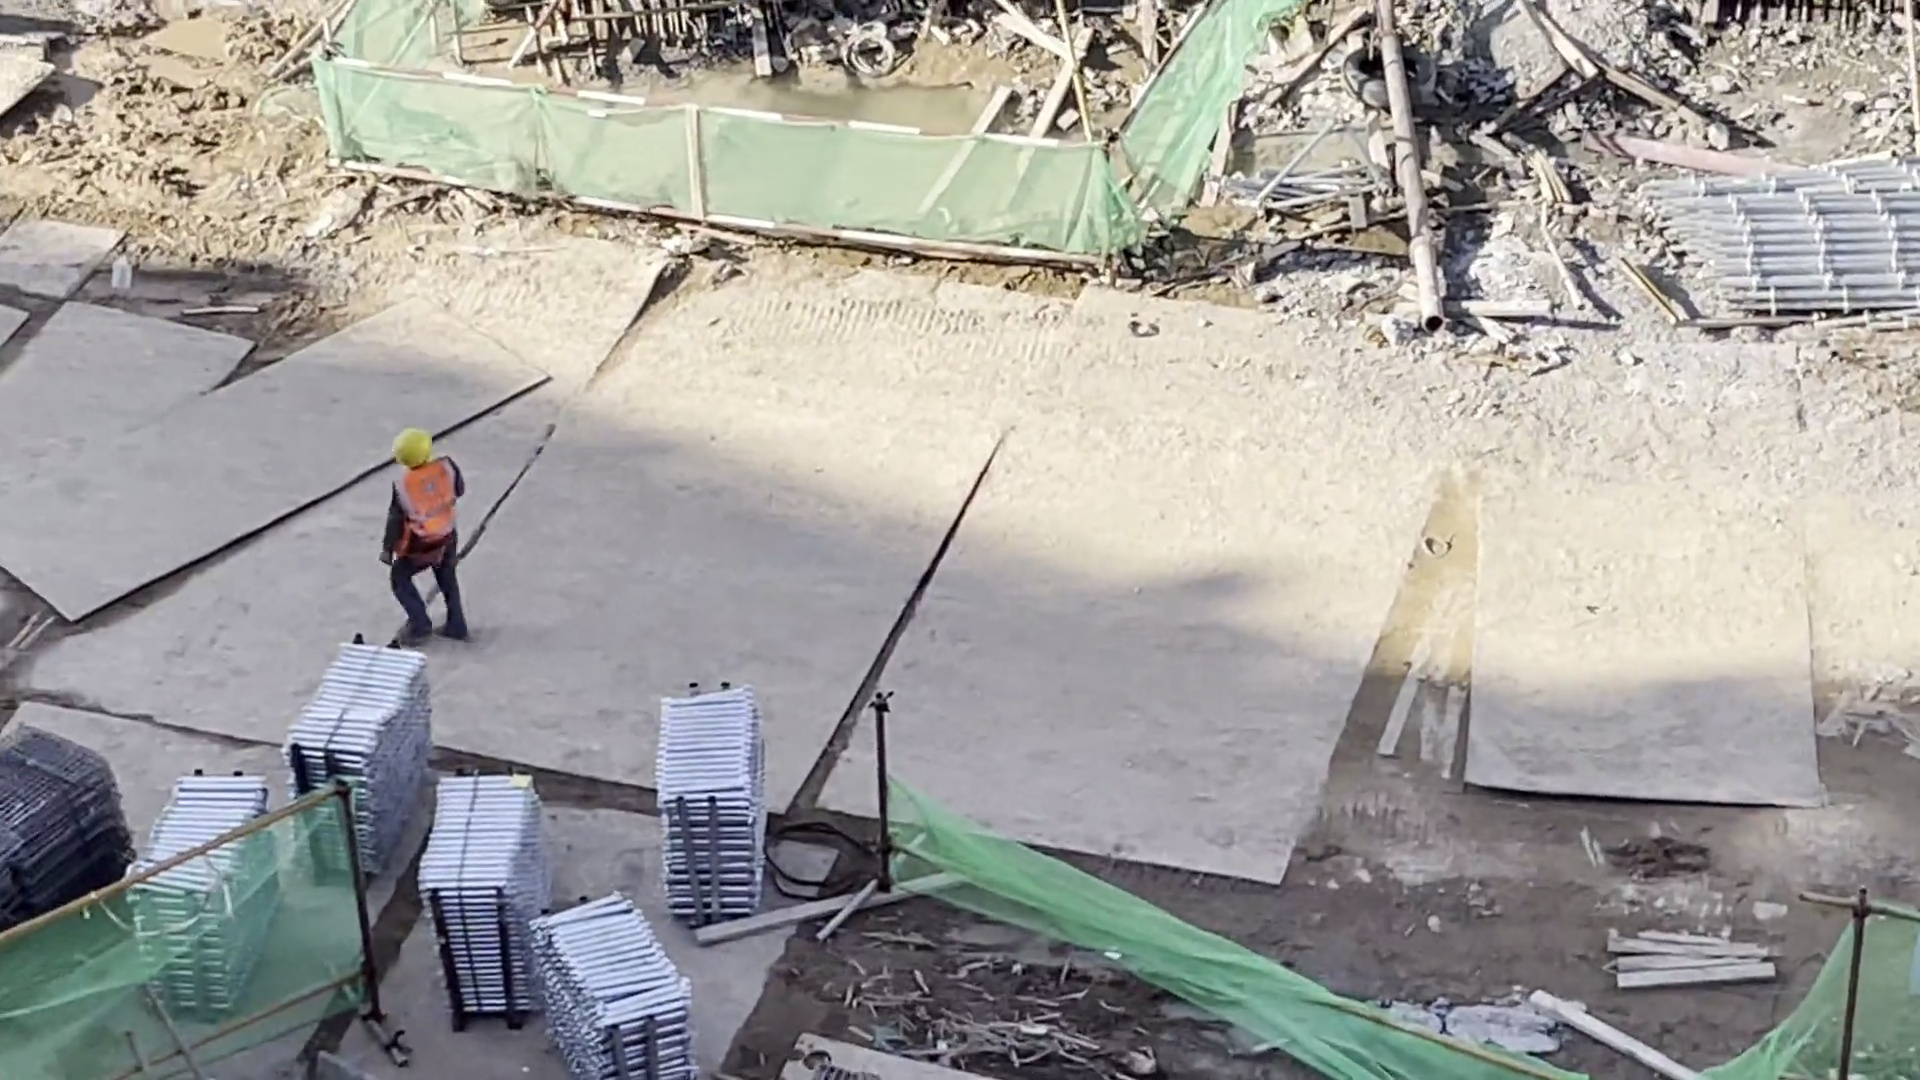helmet: (385, 419, 438, 467)
person: (360, 411, 503, 669)
scaffold: (1637, 145, 1920, 336), (101, 759, 291, 1017), (418, 771, 563, 1050), (277, 635, 439, 884), (528, 882, 722, 1080), (641, 683, 784, 930)
vest: (388, 458, 471, 548)
